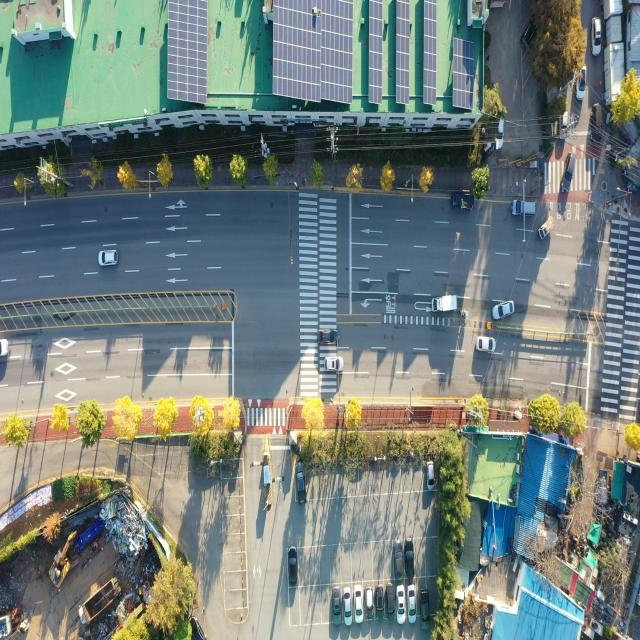car: (562, 152, 576, 194), (589, 18, 601, 56), (512, 200, 536, 218), (295, 463, 305, 505), (407, 583, 417, 623), (492, 302, 513, 321), (522, 20, 536, 48), (386, 585, 396, 621), (288, 548, 297, 586), (591, 104, 600, 141), (394, 541, 403, 578), (406, 540, 414, 579), (365, 586, 374, 620), (375, 587, 384, 621), (99, 250, 118, 266), (334, 586, 342, 624), (355, 584, 363, 621), (421, 590, 429, 627), (495, 119, 504, 151), (319, 331, 338, 346), (344, 588, 352, 623), (577, 71, 585, 103), (477, 338, 495, 352), (325, 358, 343, 372), (397, 587, 404, 622), (426, 461, 434, 491), (561, 113, 569, 142), (0, 338, 10, 358)
medium_truck: (78, 578, 120, 626)
small_truck: (434, 295, 459, 313), (451, 194, 474, 212), (539, 217, 555, 242)
